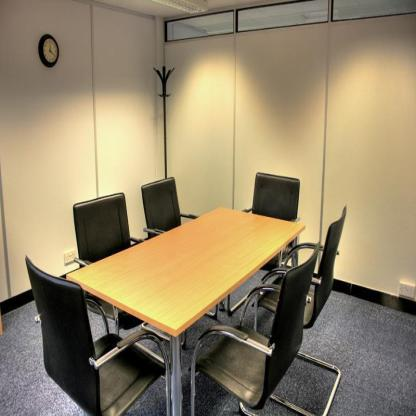other: (196, 72, 245, 115), (239, 234, 287, 264)
